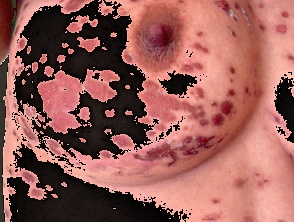SJS-TEN: (3, 0, 250, 211)
